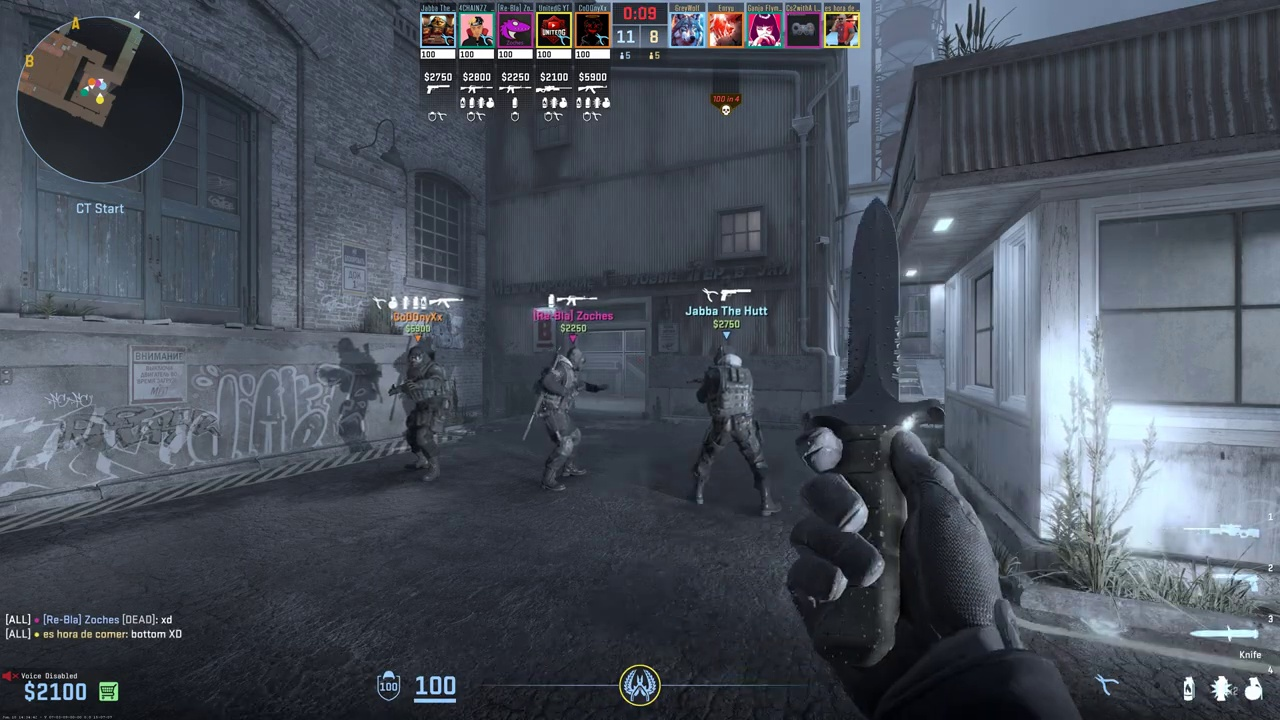CT: (690, 345, 770, 509), (533, 347, 588, 489), (398, 347, 447, 473)
